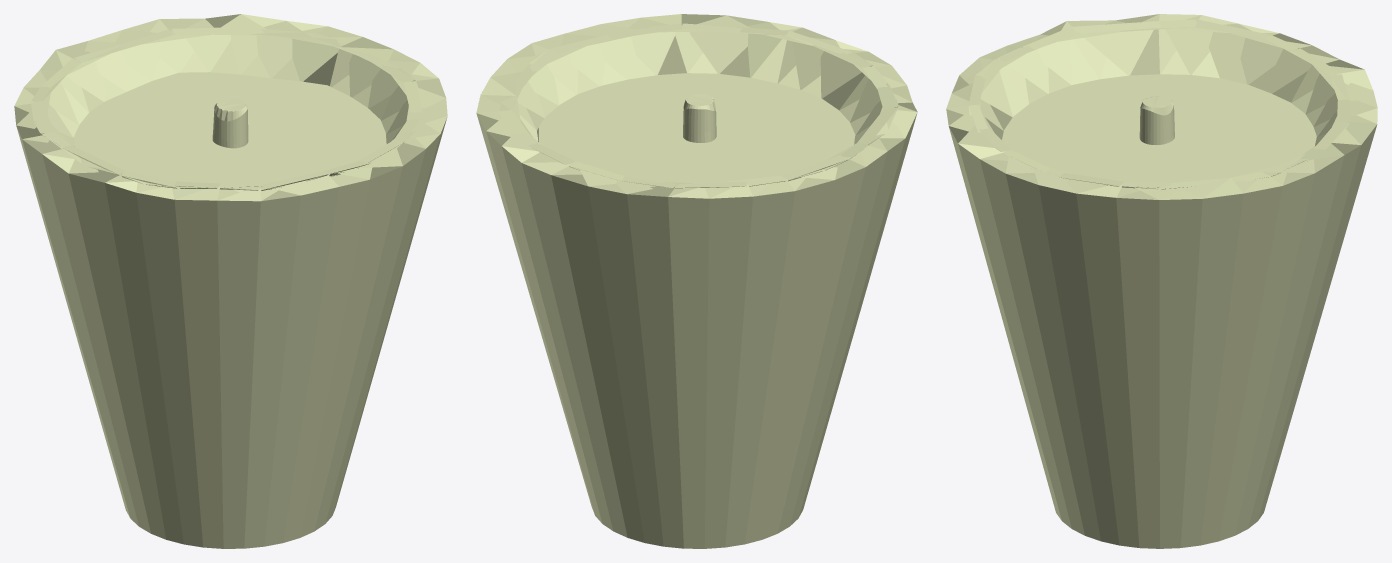
File: VELADORA  VASO2.fbx
The picture shows the model from 3 angles, left to right: view 1: azimuth 30°, elevation 25°; view 2: azimuth 150°, elevation 25°; view 3: azimuth 270°, elevation 25°; orthographic projection.
Parts seen in each view (by area): view 1: Cilindro; view 2: Cilindro; view 3: Cilindro.
Boxes of the visible parts, box(x1,y1,x2,y2) form: Cilindro: box(14, 14, 447, 548); Cilindro: box(476, 14, 917, 548); Cilindro: box(946, 14, 1377, 548).
Bounding box in the file's own units: 247 × 250 × 244.
